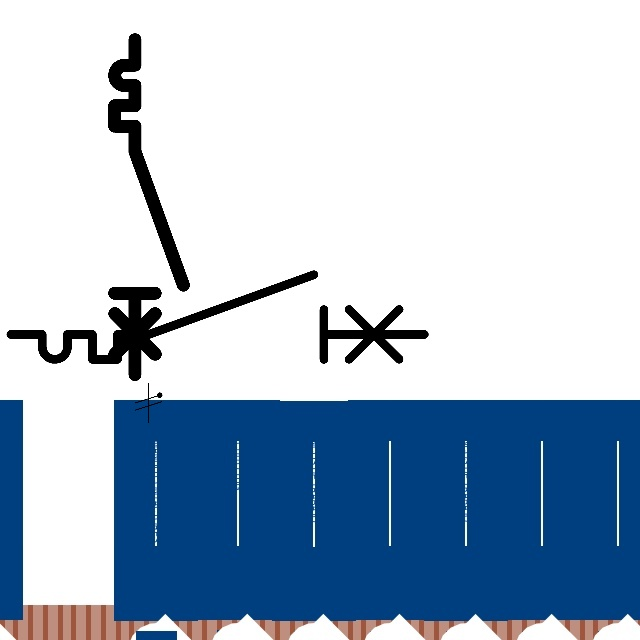interruptor_termomagnetico: (0, 264, 435, 370), (106, 31, 192, 383)
